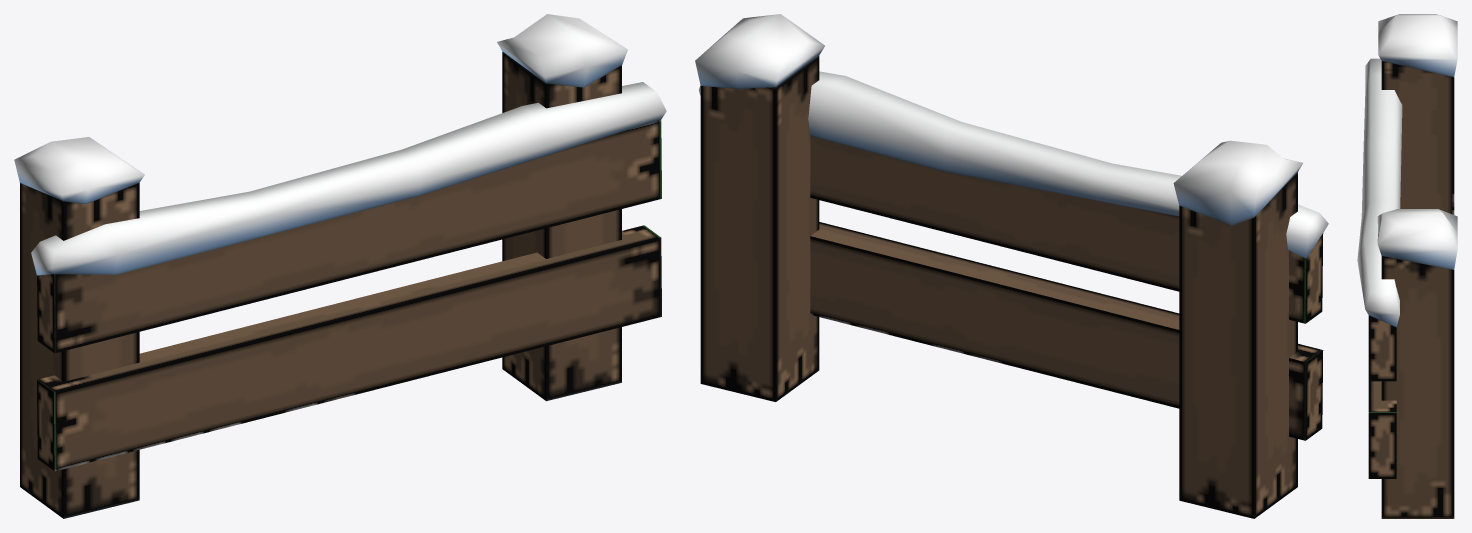
File: deco_winter_fenceLongSnow.FBX
3 views of the same model, side by side, from view 1: azimuth 30°, elevation 25°; view 2: azimuth 150°, elevation 25°; view 3: azimuth 270°, elevation 25° (orthographic). The views are drawn at different scales.
Visible parts, largest first — view 1: deco_winter_fenceLongSnow; view 2: deco_winter_fenceLongSnow; view 3: deco_winter_fenceLongSnow.
Boxes of the visible parts, left/top/right/bottom form: deco_winter_fenceLongSnow: left=14, top=14, right=666, bottom=518; deco_winter_fenceLongSnow: left=695, top=14, right=1328, bottom=518; deco_winter_fenceLongSnow: left=1357, top=14, right=1457, bottom=518.
Size of the model in its own units: 4.05 by 2.21 by 0.6906.
1 material, 1 textured.
